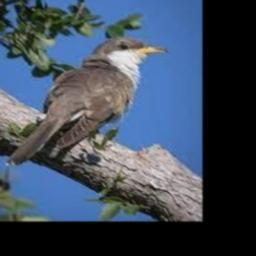Cuckoo: (4, 38, 167, 166)
